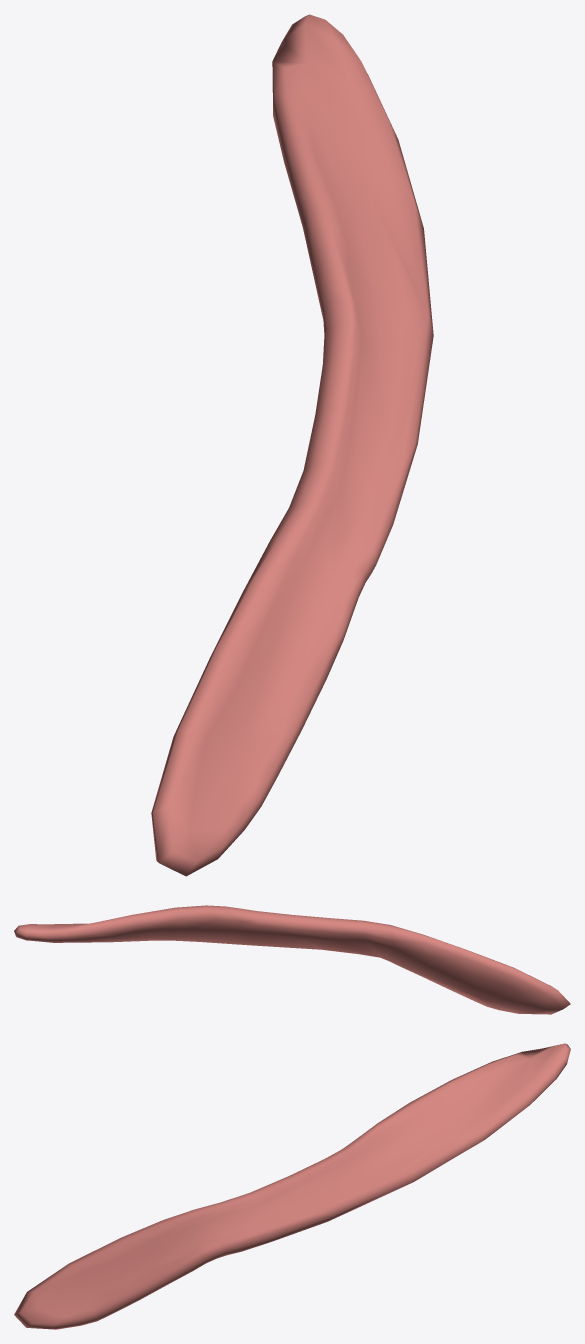
3 views of the same model, one above another, from view 1: azimuth 30°, elevation 25°; view 2: azimuth 150°, elevation 25°; view 3: azimuth 330°, elevation 25° (orthographic). The views are drawn at different scales.
Parts seen in each view (by area): view 1: ZA_b2e46aa1fd02a9d9; view 2: ZA_b2e46aa1fd02a9d9; view 3: ZA_b2e46aa1fd02a9d9.
Boxes of the visible parts, x1,y1,x2,y2 form: ZA_b2e46aa1fd02a9d9: (151, 14, 433, 876); ZA_b2e46aa1fd02a9d9: (14, 905, 570, 1014); ZA_b2e46aa1fd02a9d9: (14, 1043, 570, 1329).
Size of the model in its own units: 0.00978 by 0.00537 by 0.0126.
